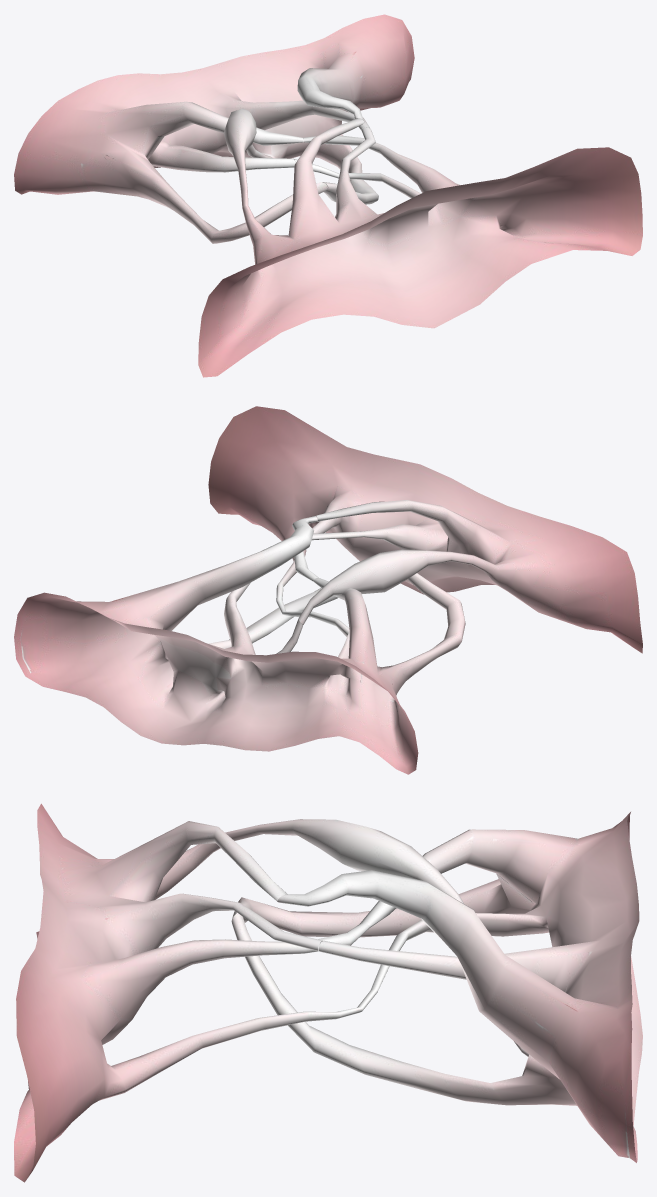
Rendered from Leukocyte_Net_New.fbx.
3 renders of one model, top to bottom at view 1: azimuth 30°, elevation 25°; view 2: azimuth 150°, elevation 25°; view 3: azimuth 270°, elevation 25°, orthographic. The views are drawn at different scales.
Visible parts, largest first — view 1: Leukocyte_Net_New; view 2: Leukocyte_Net_New; view 3: Leukocyte_Net_New.
Boxes of the visible parts, x1=… form: Leukocyte_Net_New: x1=14, y1=14, x2=642, y2=377; Leukocyte_Net_New: x1=14, y1=406, x2=642, y2=774; Leukocyte_Net_New: x1=14, y1=803, x2=642, y2=1182.
Bounding box in the file's own units: 570 × 196 × 500.
